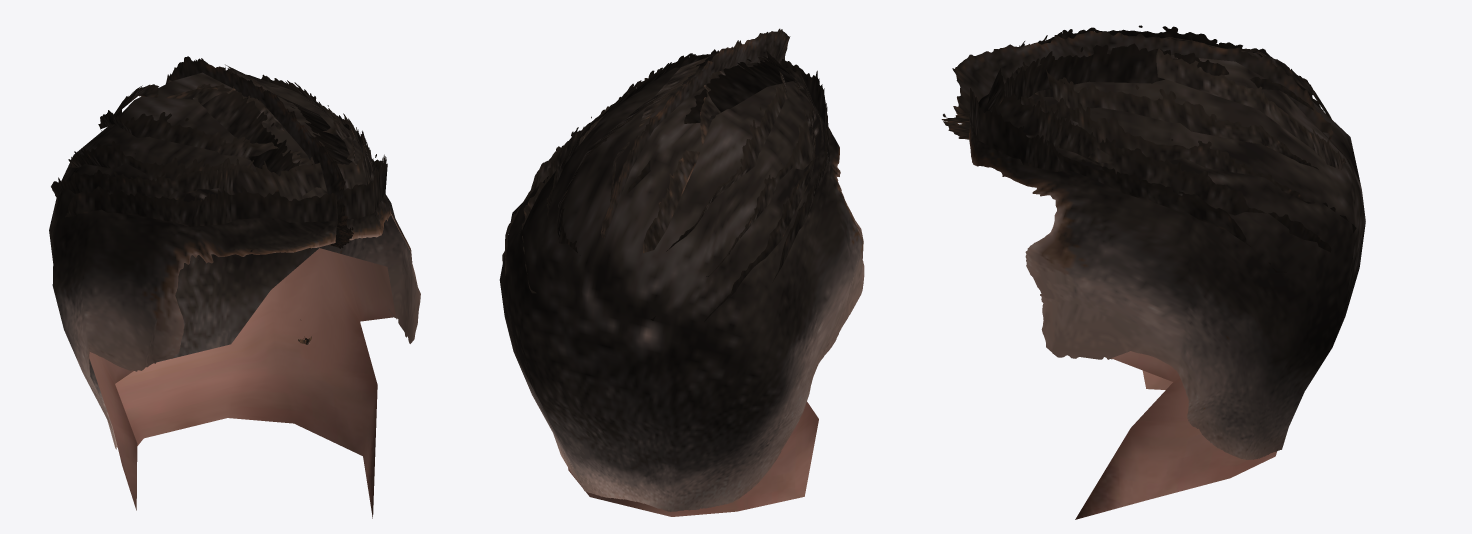
Rendered from arg-messi.glb.
3 views of the same model, side by side, from view 1: azimuth 30°, elevation 25°; view 2: azimuth 150°, elevation 25°; view 3: azimuth 270°, elevation 25° (orthographic). The views are drawn at different scales.
Visible parts, largest first — view 1: hair; view 2: hair; view 3: hair.
Boxes of the visible parts, left/top/right/bottom form: hair: left=49, top=56, right=420, bottom=518; hair: left=499, top=28, right=864, bottom=516; hair: left=941, top=25, right=1365, bottom=519.
Size of the model in its own units: 0.153 by 0.2267 by 0.2438.
2 materials, 2 textured.
